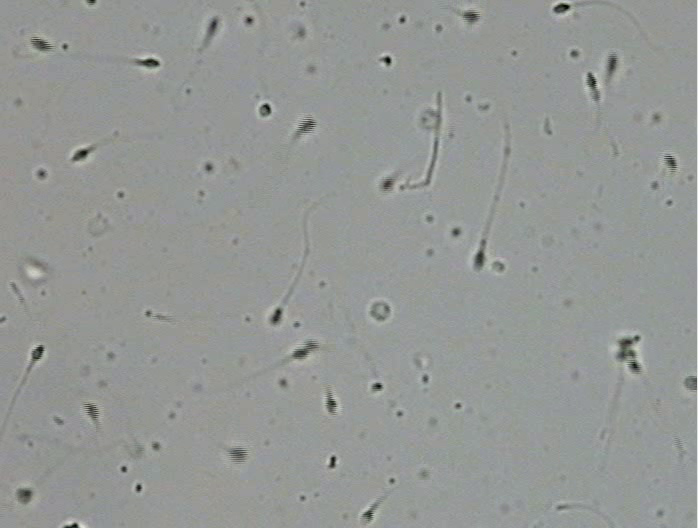Impurity: (370, 300, 390, 322)
S: (292, 340, 319, 359), (616, 336, 635, 362), (30, 37, 54, 52), (296, 117, 317, 134), (228, 447, 248, 464), (663, 153, 678, 174), (83, 402, 99, 421), (16, 488, 32, 504), (325, 395, 337, 415), (606, 53, 618, 73), (31, 344, 45, 361), (463, 10, 481, 23), (137, 58, 160, 68), (626, 359, 641, 374), (72, 149, 89, 162), (474, 250, 485, 270), (684, 375, 697, 391), (271, 307, 282, 324), (586, 72, 597, 89), (259, 103, 272, 117), (208, 18, 218, 36), (553, 3, 571, 13), (361, 510, 374, 523), (381, 178, 394, 190), (86, 1, 96, 6)
